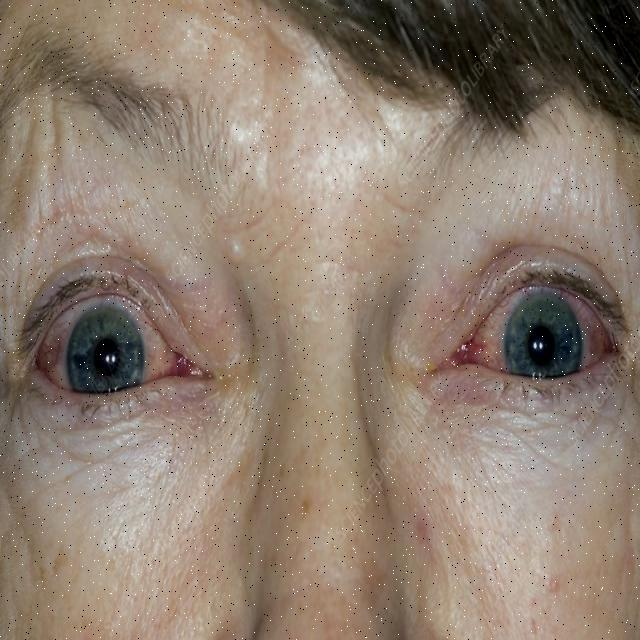Conjunctivitis: (446, 293, 618, 392), (32, 310, 202, 396)
